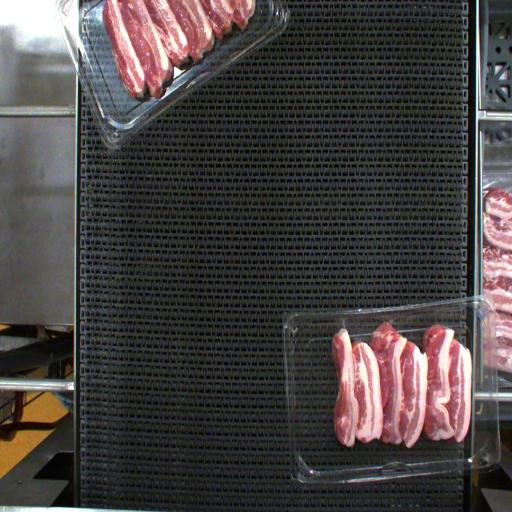packaging-error: (338, 315, 349, 332), (384, 318, 396, 328)
